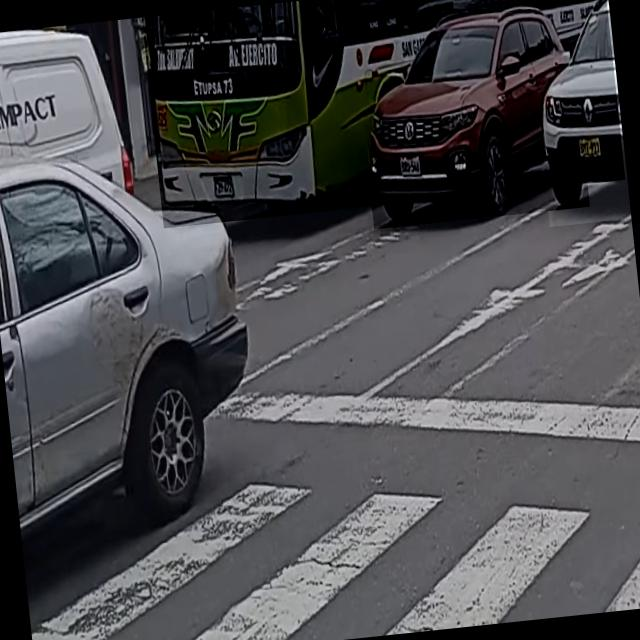bus: (141, 0, 625, 227)
car: (0, 136, 271, 551), (352, 1, 590, 229), (525, 0, 631, 226)
